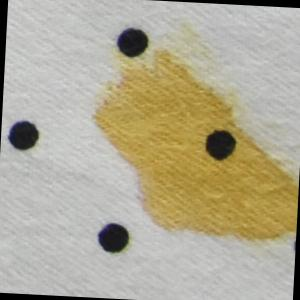Oil Stain: (91, 35, 300, 247)
